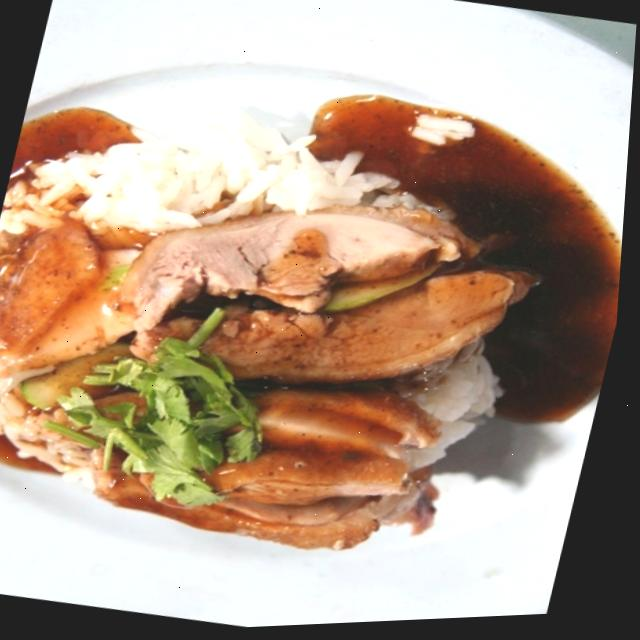米饭主食: (0, 3, 639, 631)
